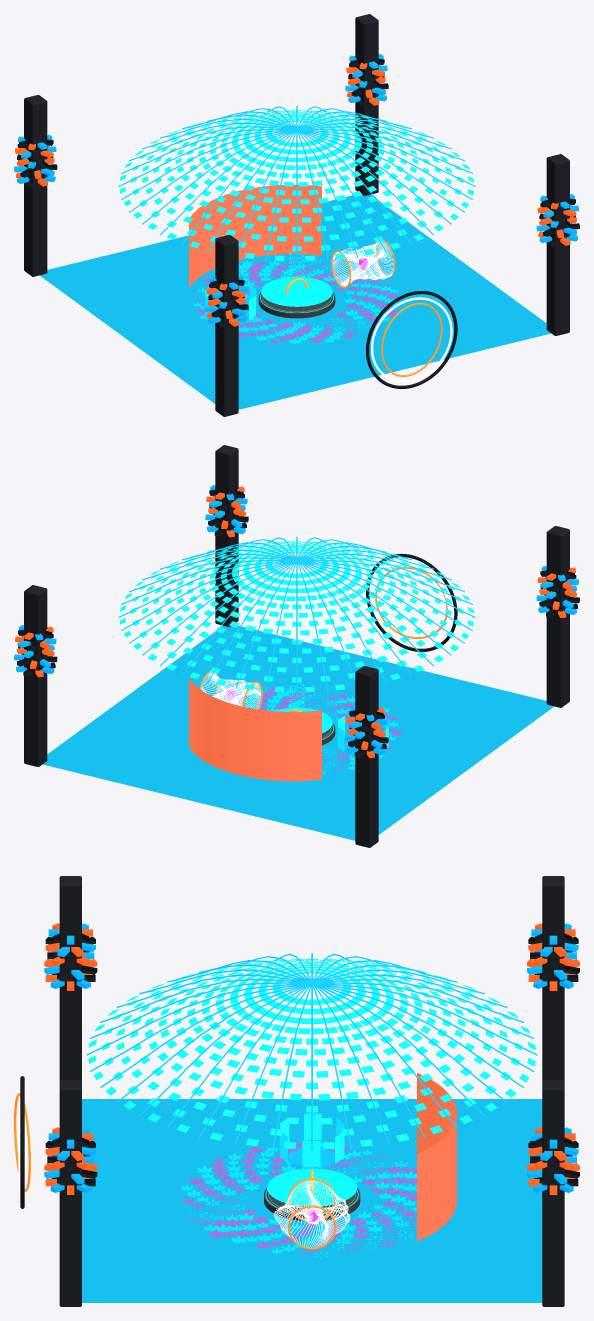
File: future_wuzhen_grand_hall.glb
3 renders of one model, top to bottom at view 1: azimuth 30°, elevation 25°; view 2: azimuth 150°, elevation 25°; view 3: azimuth 270°, elevation 25°, orthographic. The views are drawn at different scales.
Visible parts, largest first — view 1: Breathing_Circuit_Floor_30m, Parametric_Data_Eaves_36_Ribs, World_Internet_Data_Waterfall, Compute_Totem_Pillar_01, Compute_Totem_Pillar_02, Compute_Totem_Pillar_03, Compute_Totem_Pillar_00, Photon_Loom_100_Fiber_Weaves, Wuzhen_Hologram_Terrain, Moon_Gate_Outer_Ring, Pedestal_Dark_Brushed_Metal, Moon_Gate_Middle_Ring (+1 smaller); view 2: Breathing_Circuit_Floor_30m, World_Internet_Data_Waterfall, Parametric_Data_Eaves_36_Ribs, Compute_Totem_Pillar_02, Compute_Totem_Pillar_01, Compute_Totem_Pillar_00, Compute_Totem_Pillar_03, Photon_Loom_100_Fiber_Weaves, Moon_Gate_Outer_Ring; view 3: Breathing_Circuit_Floor_30m, Parametric_Data_Eaves_36_Ribs, World_Internet_Data_Waterfall, Compute_Totem_Pillar_00, Compute_Totem_Pillar_03, Compute_Totem_Pillar_01, Compute_Totem_Pillar_02, Photon_Loom_100_Fiber_Weaves, Wuzhen_Hologram_Terrain, Pedestal_Dark_Brushed_Metal, Moon_Gate_Outer_Ring.
Boxes of the visible parts, <box> form: Breathing_Circuit_Floor_30m: <box>40,194,550,409</box>; Parametric_Data_Eaves_36_Ribs: <box>118,106,475,261</box>; World_Internet_Data_Waterfall: <box>189,184,321,287</box>; Compute_Totem_Pillar_01: <box>24,95,47,276</box>; Compute_Totem_Pillar_02: <box>215,235,238,416</box>; Compute_Totem_Pillar_03: <box>546,154,569,335</box>; Compute_Totem_Pillar_00: <box>355,14,378,195</box>; Photon_Loom_100_Fiber_Weaves: <box>332,241,393,286</box>; Wuzhen_Hologram_Terrain: <box>261,276,332,306</box>; Moon_Gate_Outer_Ring: <box>366,291,457,388</box>; Pedestal_Dark_Brushed_Metal: <box>258,292,335,318</box>; Moon_Gate_Middle_Ring: <box>371,297,452,382</box>; Breathing_Circuit_Floor_30m: <box>43,625,553,840</box>; World_Internet_Data_Waterfall: <box>189,678,321,781</box>; Parametric_Data_Eaves_36_Ribs: <box>118,537,475,692</box>; Compute_Totem_Pillar_02: <box>546,526,569,707</box>; Compute_Totem_Pillar_01: <box>355,666,378,847</box>; Compute_Totem_Pillar_00: <box>24,585,47,766</box>; Compute_Totem_Pillar_03: <box>215,445,238,626</box>; Photon_Loom_100_Fiber_Weaves: <box>201,672,261,709</box>; Moon_Gate_Outer_Ring: <box>366,553,457,651</box>; Breathing_Circuit_Floor_30m: <box>82,1099,542,1302</box>; Parametric_Data_Eaves_36_Ribs: <box>86,953,537,1150</box>; World_Internet_Data_Waterfall: <box>417,1072,456,1241</box>; Compute_Totem_Pillar_00: <box>542,1080,564,1306</box>; Compute_Totem_Pillar_03: <box>59,1080,81,1306</box>; Compute_Totem_Pillar_01: <box>542,876,564,1080</box>; Compute_Totem_Pillar_02: <box>59,876,81,1080</box>; Photon_Loom_100_Fiber_Weaves: <box>274,1180,350,1247</box>; Wuzhen_Hologram_Terrain: <box>267,1168,357,1206</box>; Pedestal_Dark_Brushed_Metal: <box>264,1188,360,1220</box>; Moon_Gate_Outer_Ring: <box>20,1076,24,1208</box>.
Size of the model in its own units: 33.3 by 15.44 by 35.18.
